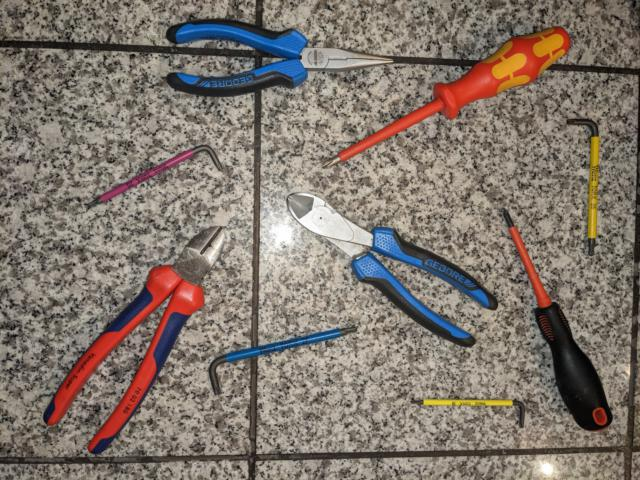Inbusschlüssel: (205, 320, 363, 398), (82, 141, 227, 214), (563, 116, 608, 260), (408, 393, 529, 430)
Schraubendreher: (318, 22, 575, 172), (499, 204, 616, 433)
Seitenschneider: (36, 222, 231, 457), (283, 188, 499, 352)
Zange: (164, 17, 398, 99)
